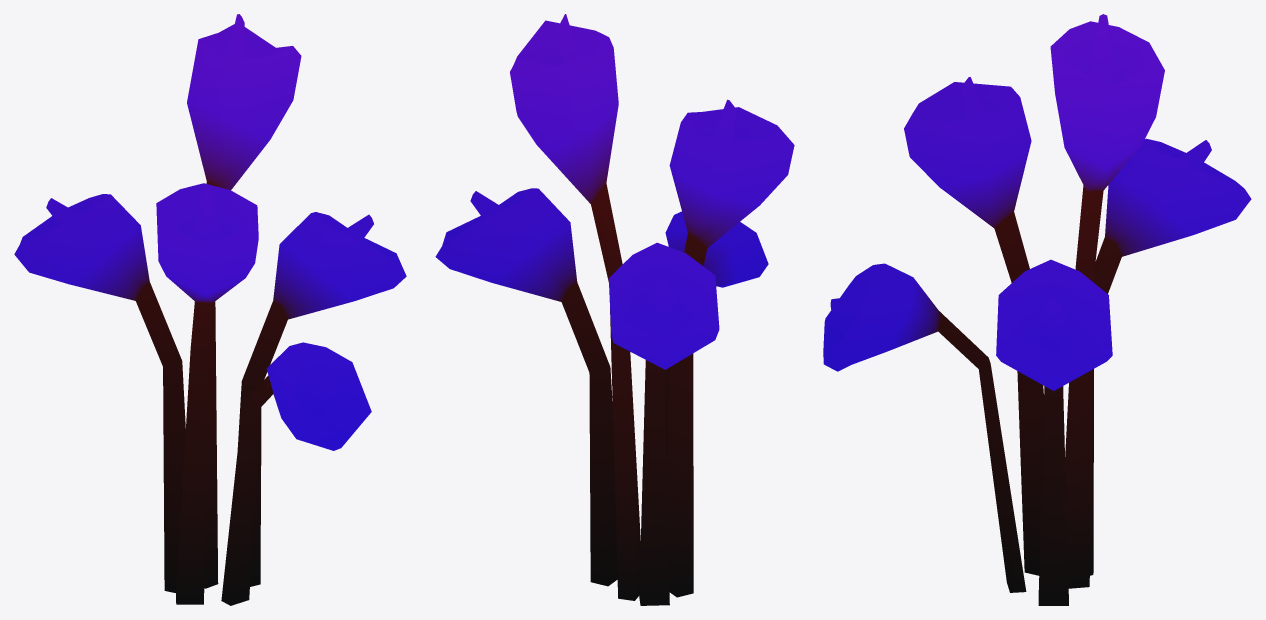
The model's file is SM_Env_Flowers_02.gltf.
The picture shows the model from 3 angles, left to right: view 1: azimuth 30°, elevation 25°; view 2: azimuth 150°, elevation 25°; view 3: azimuth 270°, elevation 25°; orthographic projection. The views are drawn at different scales.
Visible parts, largest first — view 1: SM_Env_Flowers_02_LOD0; view 2: SM_Env_Flowers_02_LOD0; view 3: SM_Env_Flowers_02_LOD0.
Boxes of the visible parts, x1,y1,x2,y2 form: SM_Env_Flowers_02_LOD0: (14,14,406,605); SM_Env_Flowers_02_LOD0: (435,14,794,605); SM_Env_Flowers_02_LOD0: (823,14,1251,605).
Bounding box in the file's own units: 0.7131 × 1.15 × 0.7483.
